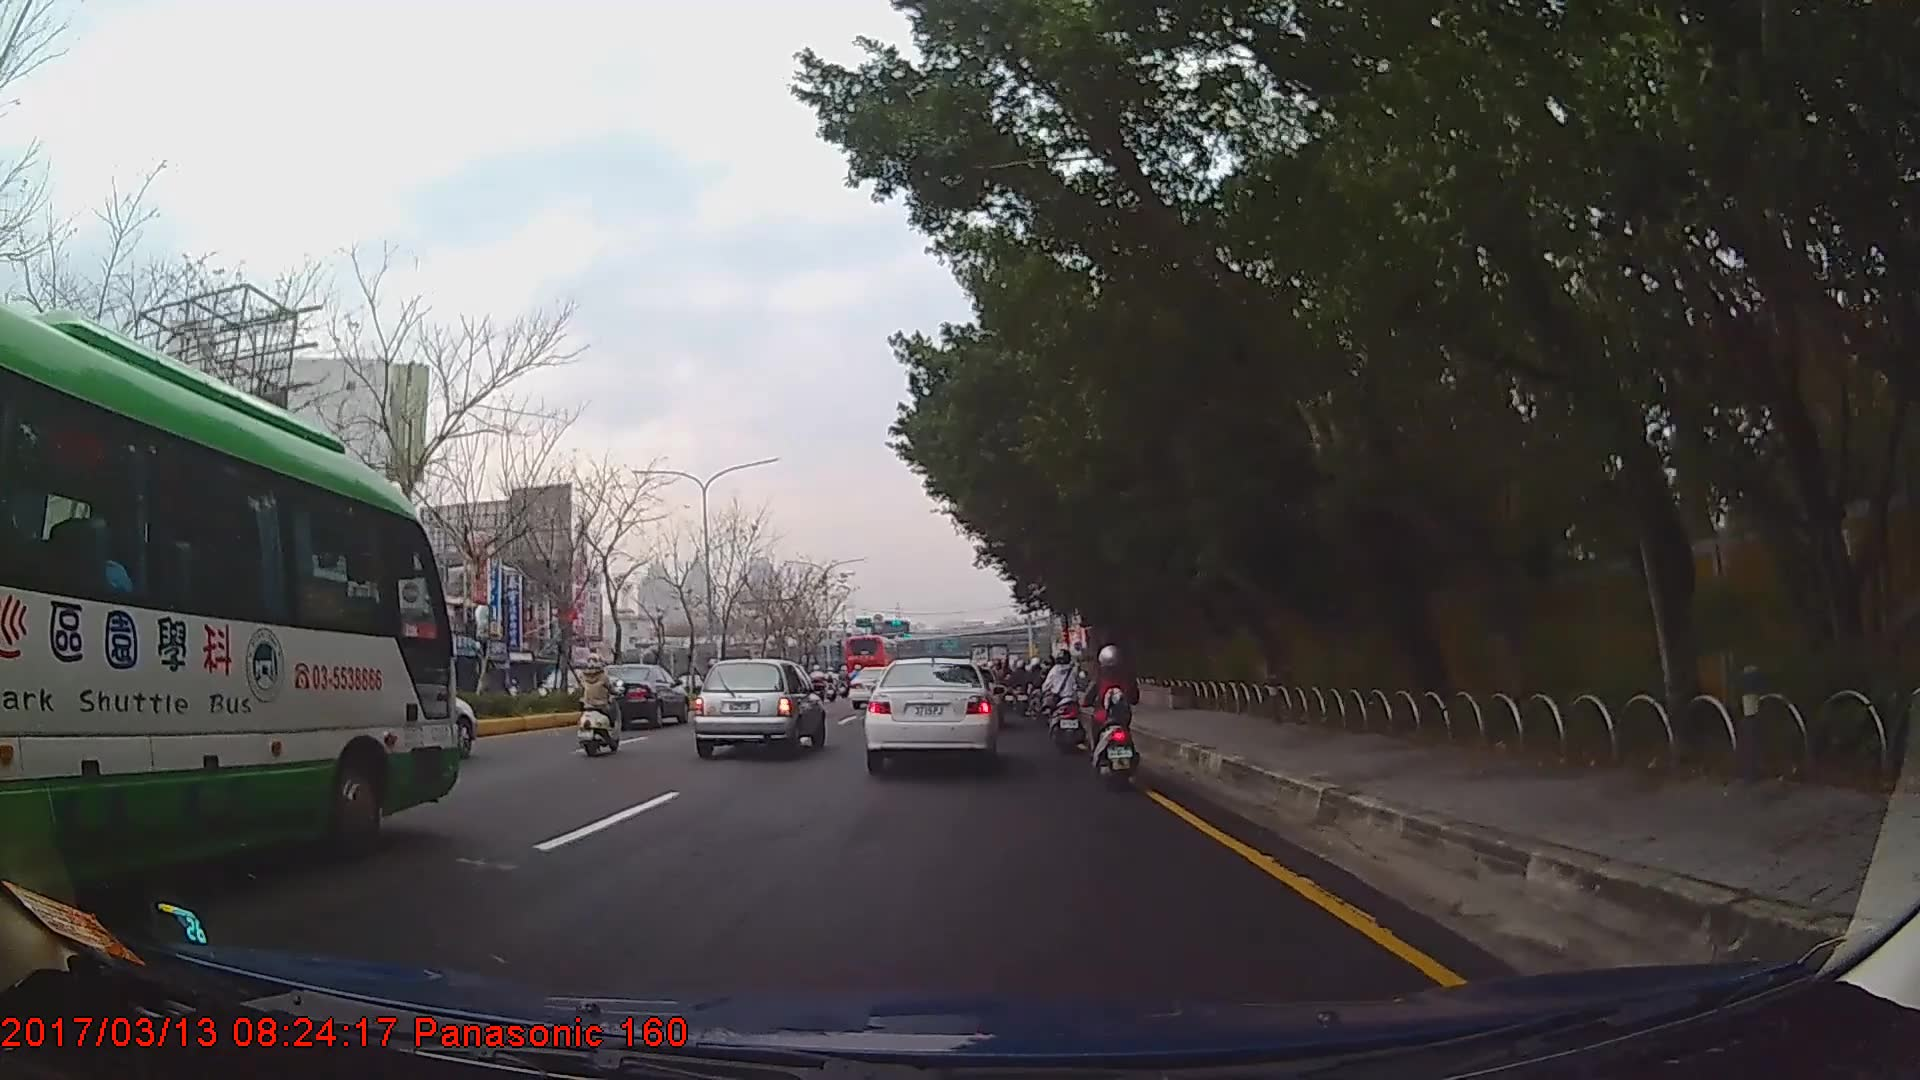rider: (1087, 647, 1141, 795), (1047, 649, 1090, 755), (580, 653, 623, 760), (1040, 655, 1062, 739)
vehicle: (0, 287, 463, 904), (861, 658, 998, 767), (690, 657, 827, 759), (579, 661, 689, 730), (843, 632, 899, 687)
